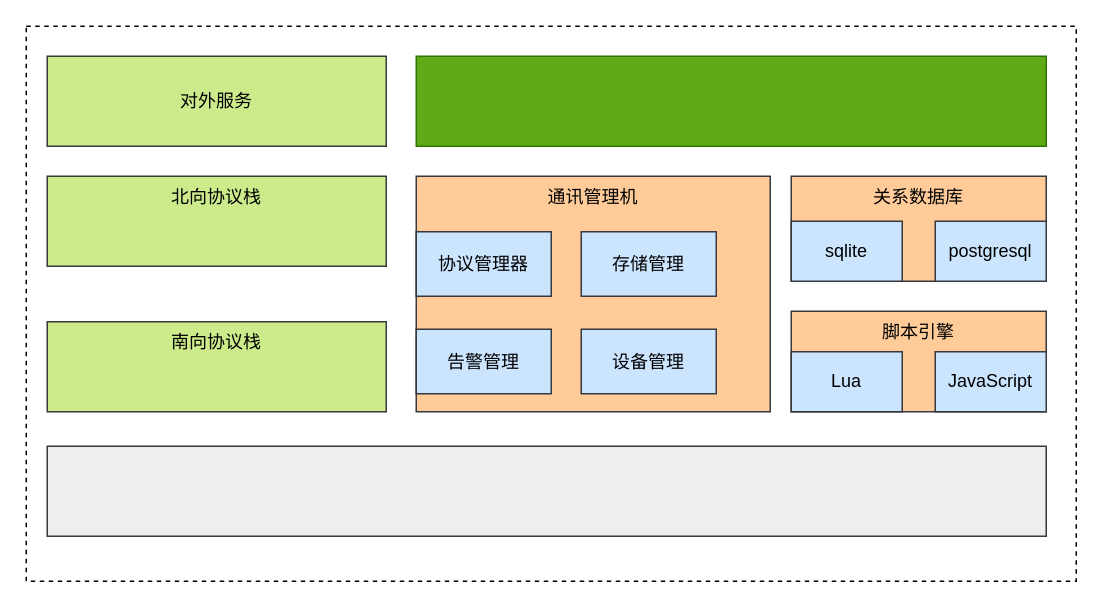
Image size: 1103x608. Some labels were removed from this diagram. Here are the shapes that lost their labels. From the top down, the centre of each, then its label:
At [730,100]: "UI层".
At [546,490]: "操作系统".
